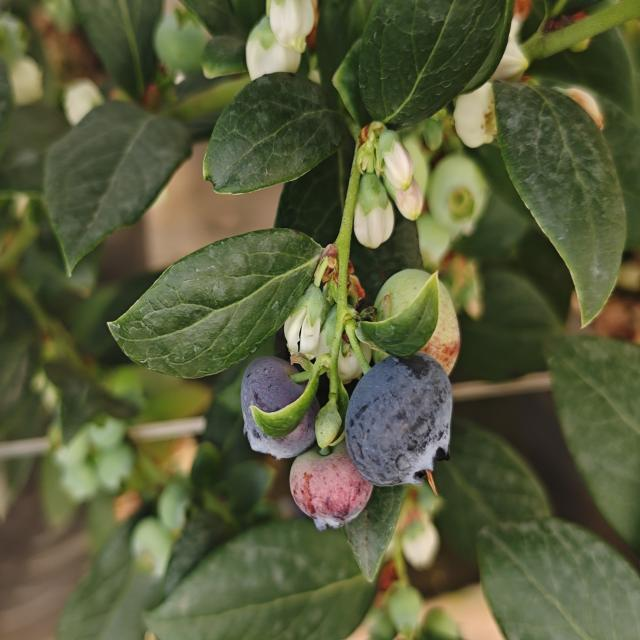ripe: (329, 342, 460, 497), (241, 343, 324, 459)
